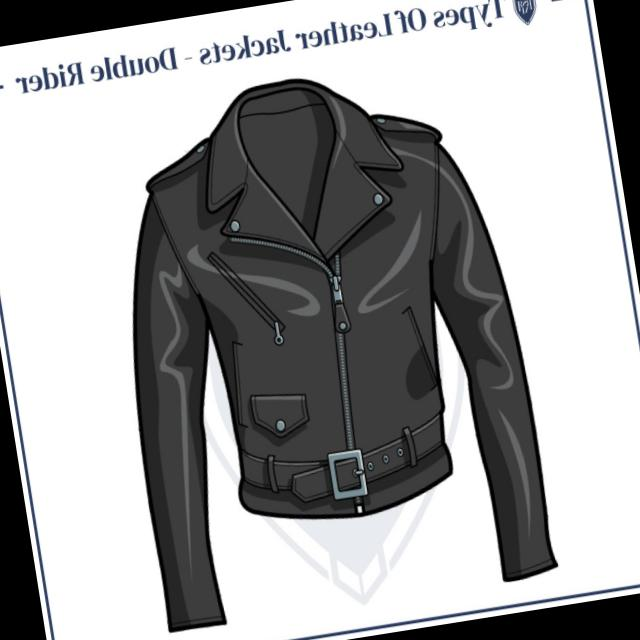Jacket: (78, 40, 595, 634)
